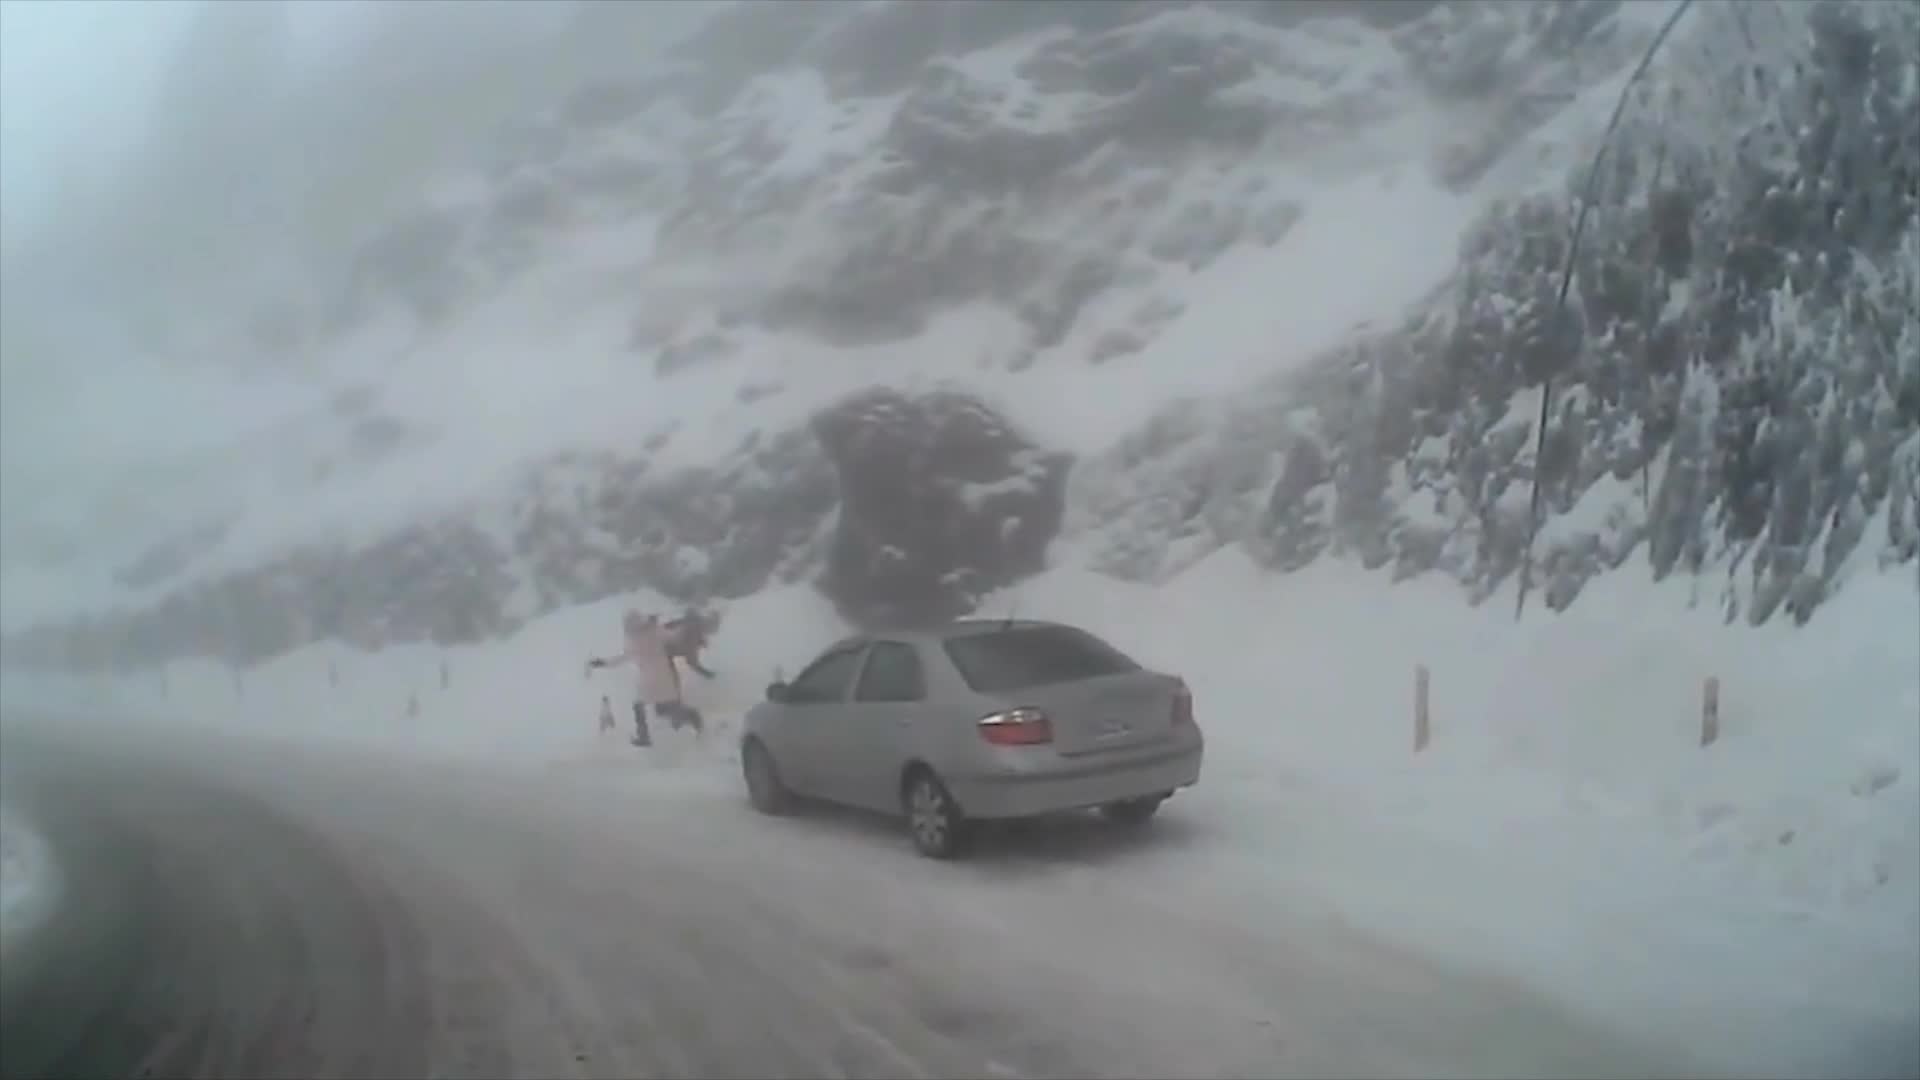pedestrian: (594, 608, 706, 750)
vehicle: (739, 616, 1204, 861)
